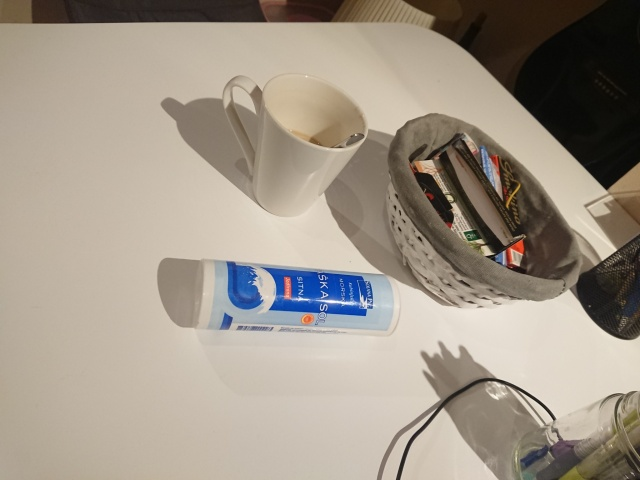Solana Pag Fine Sea Salt 250g: (190, 256, 403, 339)
